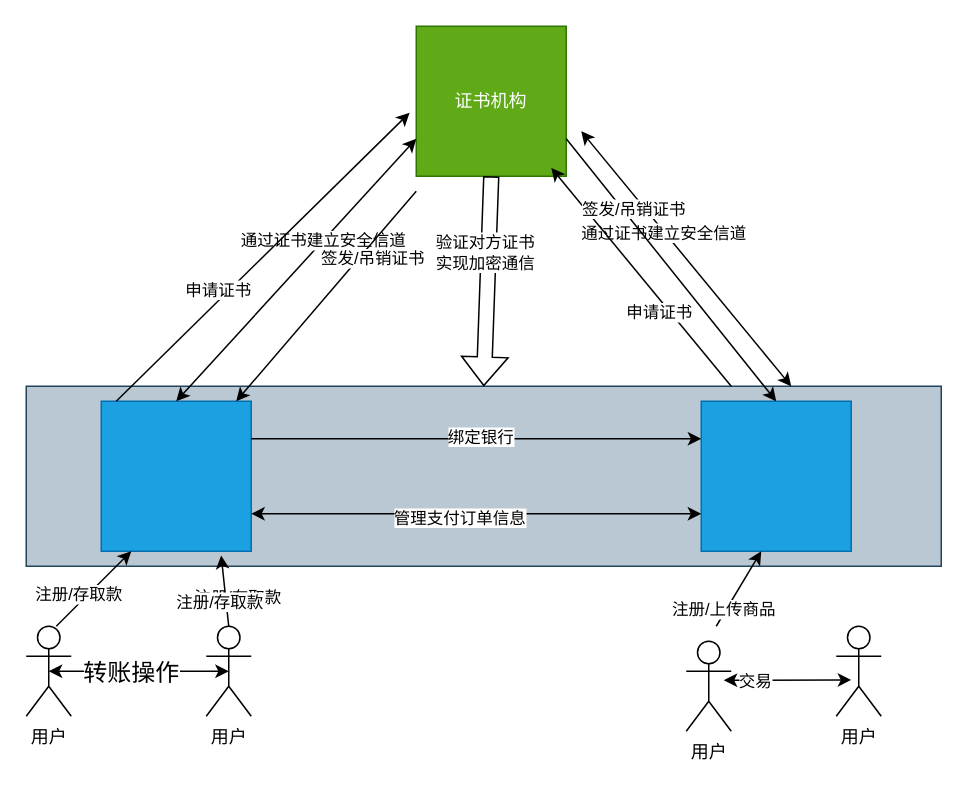
The diagram is 968 pixels wide and 789 high, and some of its shapes have lost their labels. Each missing label, with the centre of its shape:
"商城机构" belongs at pixel 775 475.
"银行机构" belongs at pixel 175 475.
